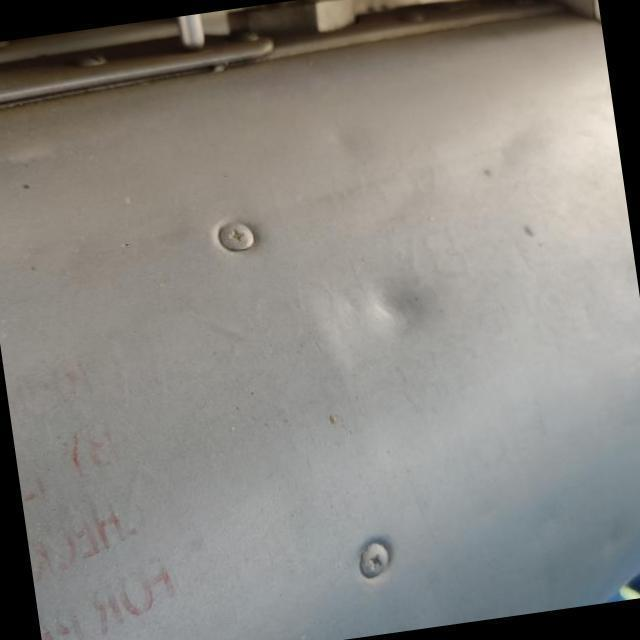Dent: (348, 258, 454, 368)
